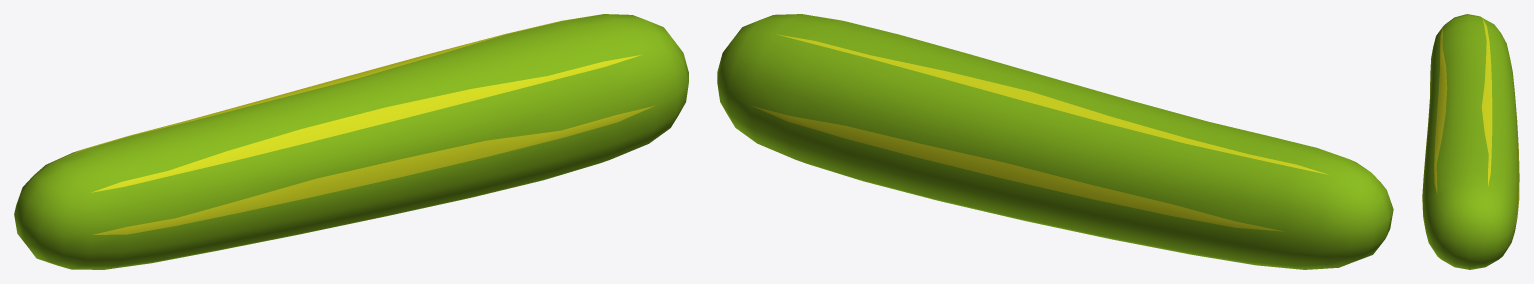
File: cucumber-harvest.glb
3 views of the same model, side by side, from view 1: azimuth 30°, elevation 25°; view 2: azimuth 150°, elevation 25°; view 3: azimuth 270°, elevation 25° (orthographic). The views are drawn at different scales.
Parts seen in each view (by area): view 1: FoodIngredient_Cucumber; view 2: FoodIngredient_Cucumber; view 3: FoodIngredient_Cucumber.
Part boxes in pixels (x1=…): FoodIngredient_Cucumber: x1=14, y1=14, x2=688, y2=269; FoodIngredient_Cucumber: x1=717, y1=14, x2=1393, y2=269; FoodIngredient_Cucumber: x1=1422, y1=14, x2=1519, y2=269.
Bounding box in the file's own units: 1 × 0.1973 × 0.1954.
Materials: 1 (1 with a texture image).
